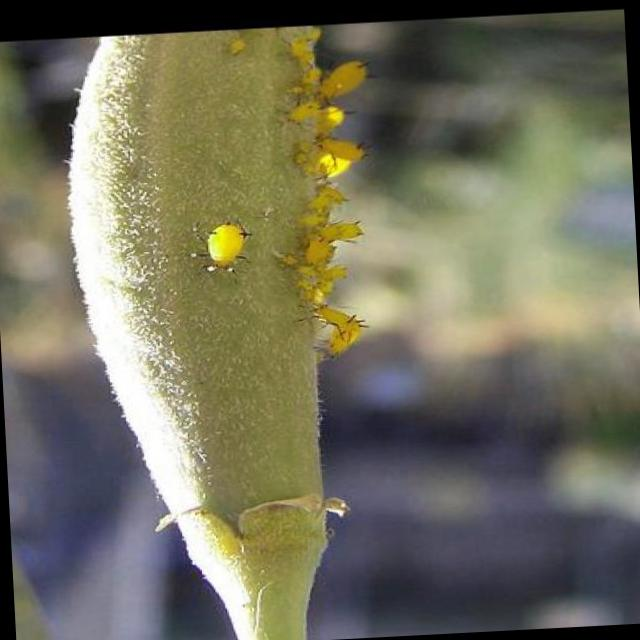aphid: (283, 44, 405, 368), (195, 202, 278, 281)
